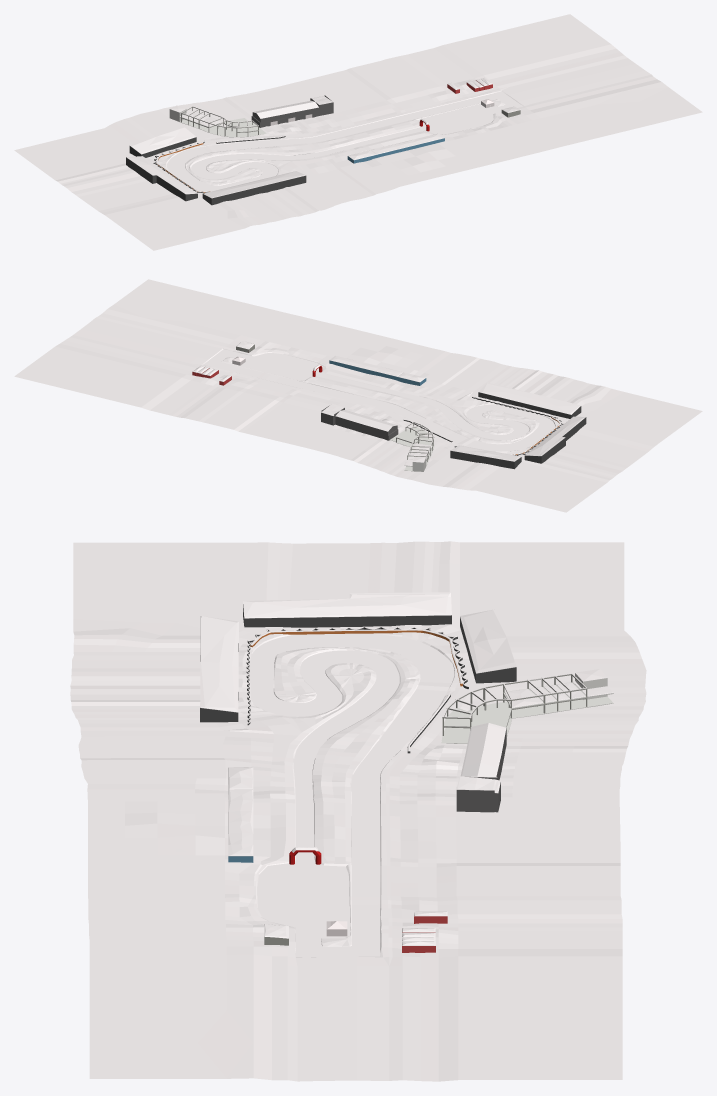
The model's file is prim ring.fbx.
3 renders of one model, top to bottom at view 1: azimuth 30°, elevation 25°; view 2: azimuth 150°, elevation 25°; view 3: azimuth 270°, elevation 25°, orthographic. The views are drawn at different scales.
Parts seen in each view (by area): view 1: snow, tribunes, garage, box, wall; view 2: snow, tribunes, garage, box; view 3: snow, tribunes, garage, box, wall.
Boxes of the visible parts, box(x1,y1,x2,y2) form: snow: box(14, 14, 702, 250); tribunes: box(126, 127, 306, 205); garage: box(169, 95, 333, 137); box: box(347, 78, 520, 163); wall: box(156, 135, 285, 192); snow: box(14, 279, 702, 512); tribunes: box(450, 382, 586, 469); garage: box(321, 403, 434, 471); box: box(192, 341, 426, 385); snow: box(70, 541, 646, 1081); tribunes: box(200, 592, 516, 722); garage: box(441, 669, 613, 812); box: box(228, 767, 447, 952); wall: box(250, 629, 462, 753).
Bounding box in the file's own units: 26613 × 546 × 12007.
Materials: 1 (1 with a texture image).
